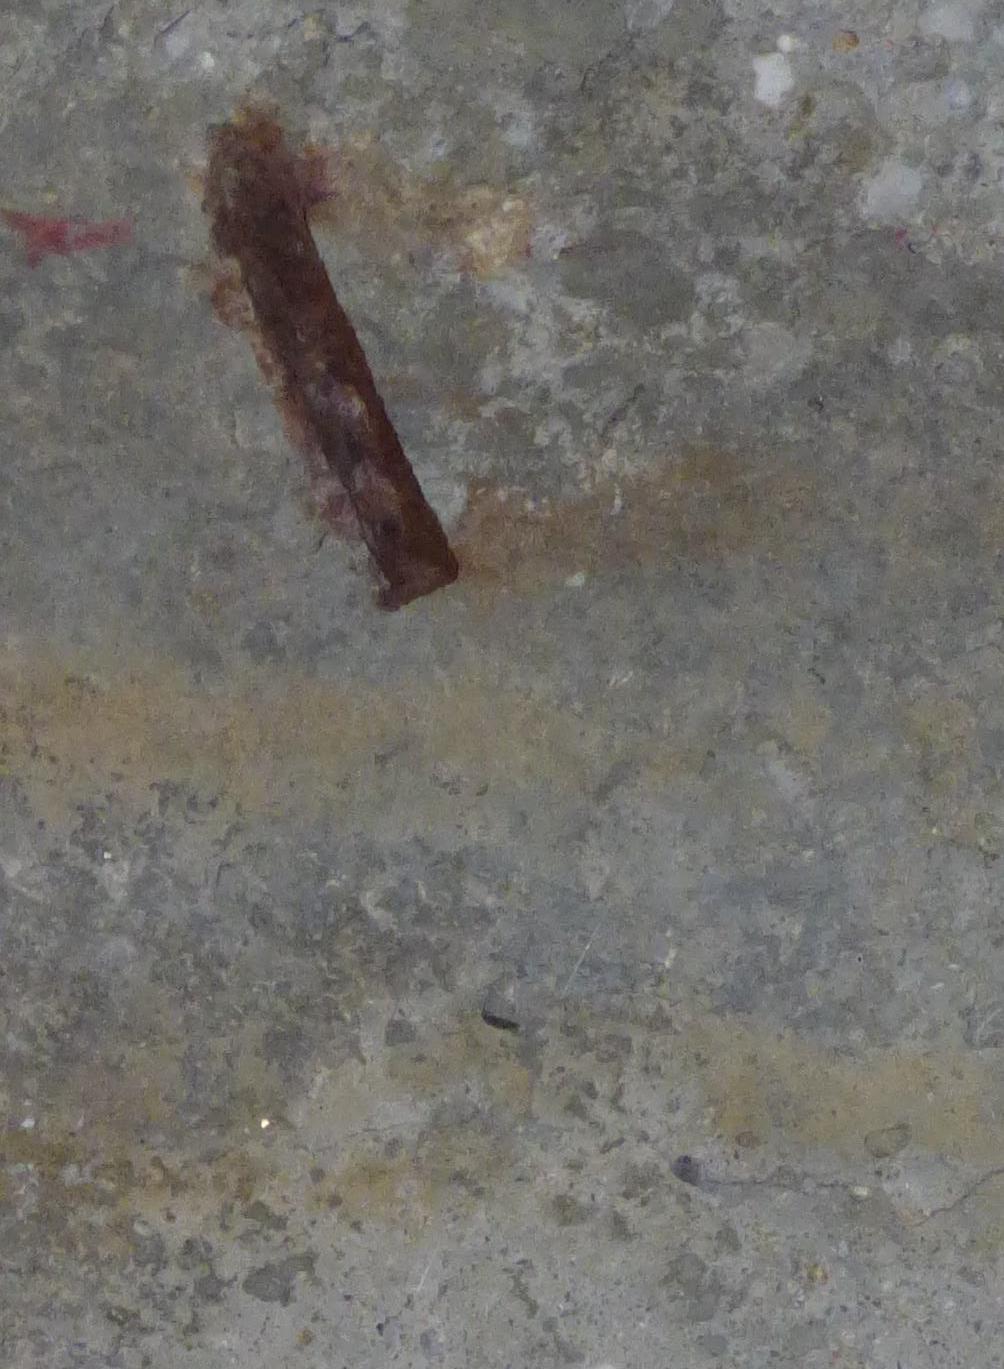Exposed reinforcement: (219, 147, 461, 614)
